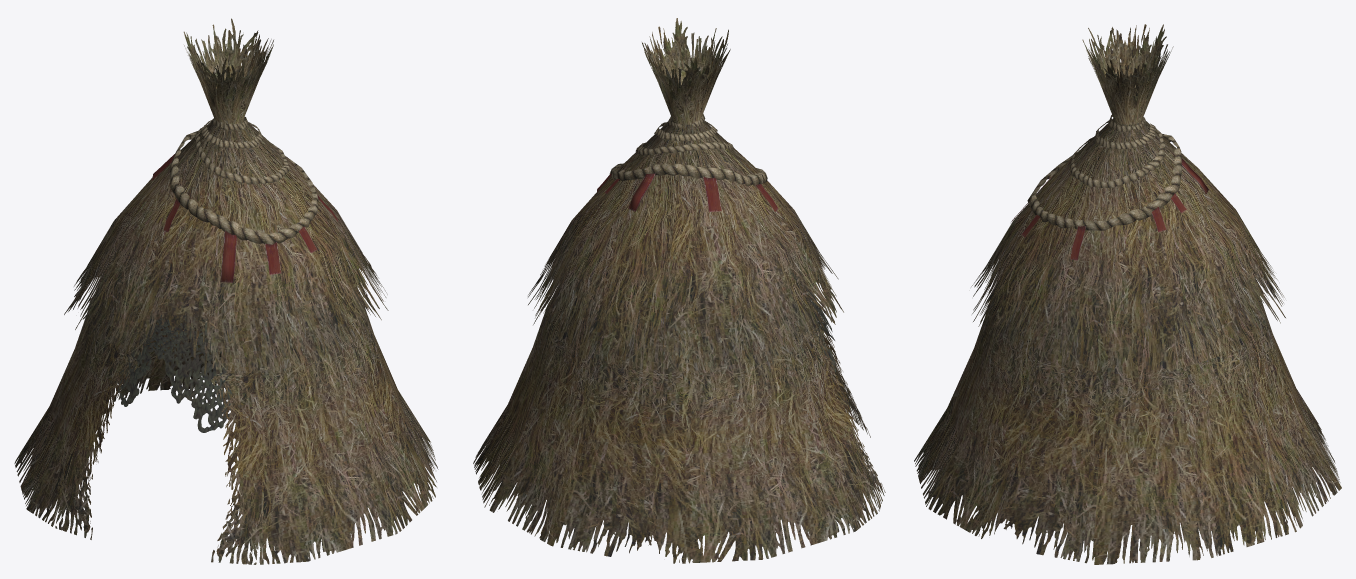
File: House1.FBX
3 views of the same model, side by side, from view 1: azimuth 30°, elevation 25°; view 2: azimuth 150°, elevation 25°; view 3: azimuth 270°, elevation 25° (orthographic).
Parts seen in each view (by area): view 1: cadnav.com; view 2: cadnav.com; view 3: cadnav.com.
Boxes of the visible parts, bbox=[...] form: cadnav.com: bbox=[14, 18, 438, 564]; cadnav.com: bbox=[473, 18, 885, 563]; cadnav.com: bbox=[914, 24, 1341, 564].
Bounding box in the file's own units: 56.09 × 63.57 × 56.09.
1 material, 1 textured.
